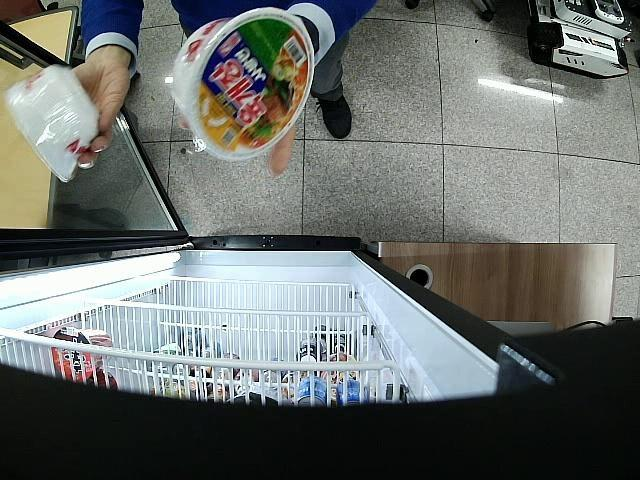09_yukGaeJang: (170, 7, 316, 160), (6, 65, 100, 183)
